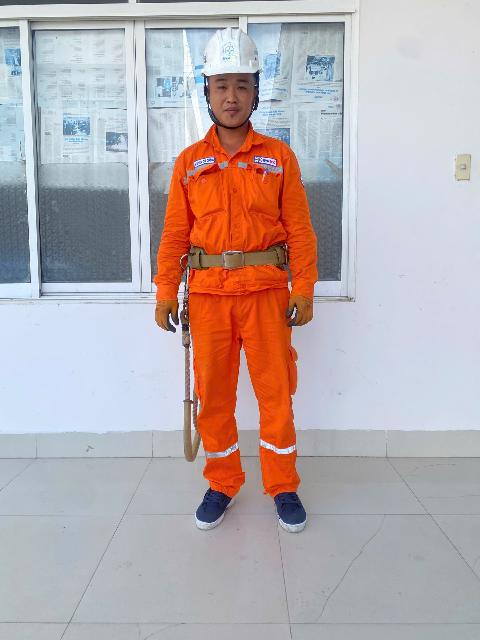gloves: (146, 293, 184, 337), (278, 282, 317, 324)
harness: (169, 241, 298, 272)
helmet: (195, 21, 276, 88)
shoes: (243, 472, 328, 547), (183, 471, 243, 543)
